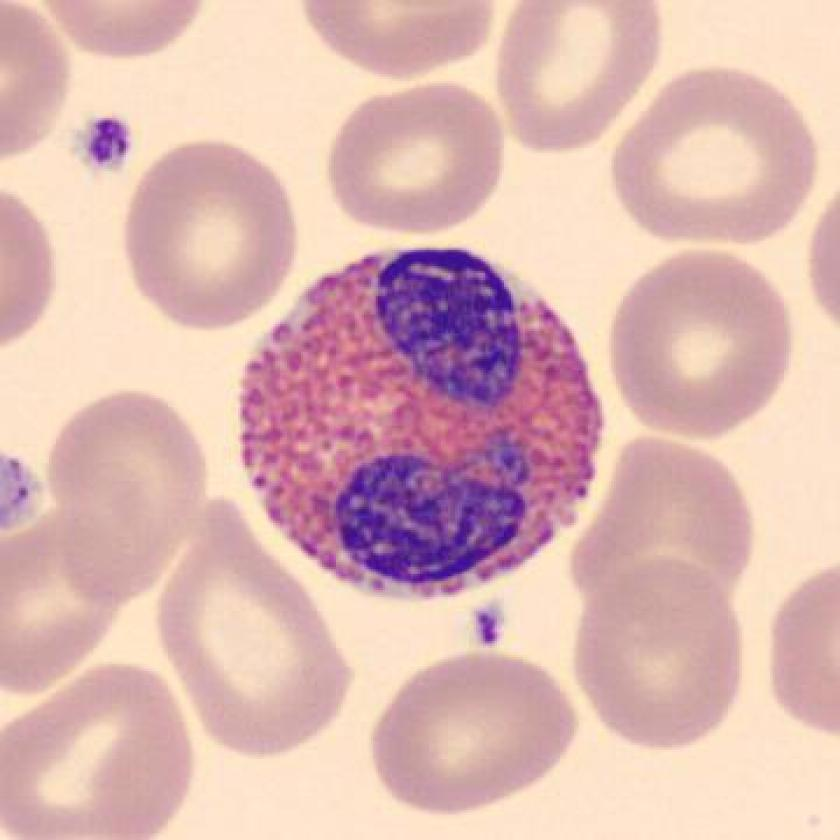eosinophil: (225, 232, 617, 612)
